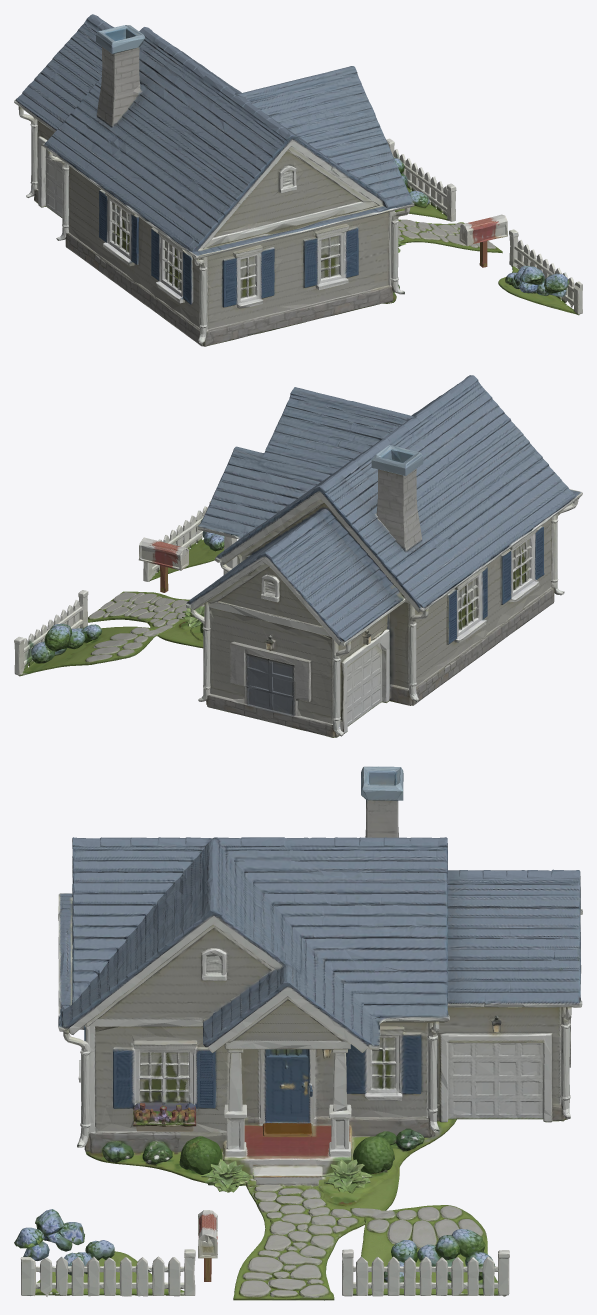
Rendered from house_1storyE_grey.glb.
3 views of the same model, one above another, from view 1: azimuth 30°, elevation 25°; view 2: azimuth 150°, elevation 25°; view 3: azimuth 270°, elevation 25° (orthographic). The views are drawn at different scales.
Parts seen in each view (by area): view 1: tripo_node_ebc7618e-4283-46f9-abf6-e45aac2b0fca; view 2: tripo_node_ebc7618e-4283-46f9-abf6-e45aac2b0fca; view 3: tripo_node_ebc7618e-4283-46f9-abf6-e45aac2b0fca.
Boxes of the visible parts, x1,y1,x2,y2 form: tripo_node_ebc7618e-4283-46f9-abf6-e45aac2b0fca: (14, 14, 582, 346); tripo_node_ebc7618e-4283-46f9-abf6-e45aac2b0fca: (14, 375, 582, 737); tripo_node_ebc7618e-4283-46f9-abf6-e45aac2b0fca: (14, 766, 582, 1300).
Bounding box in the file's own units: 0.9664 × 0.6296 × 1.
Materials: 1 (1 with a texture image).
